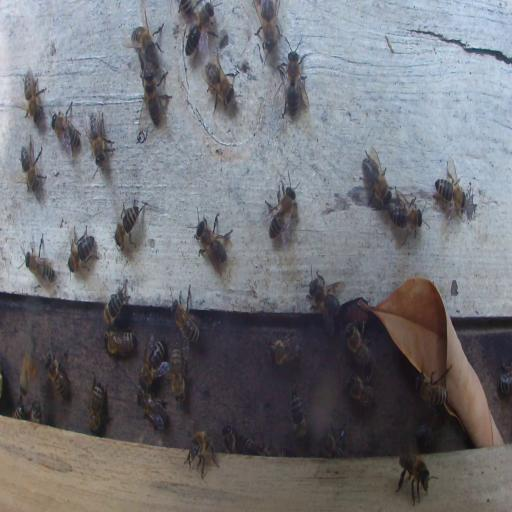nonpollenbee: (275, 34, 310, 121), (263, 171, 301, 249), (189, 209, 234, 273), (304, 265, 342, 338), (388, 185, 426, 244), (130, 8, 166, 64), (170, 284, 202, 347), (433, 158, 467, 217), (202, 55, 236, 114), (396, 451, 433, 505), (361, 146, 392, 208), (184, 426, 220, 478), (142, 68, 172, 127), (185, 4, 217, 56), (24, 235, 56, 286), (51, 106, 82, 158), (86, 109, 114, 166), (19, 136, 45, 196), (113, 201, 144, 251), (67, 224, 97, 274), (22, 67, 46, 125), (344, 320, 372, 369), (42, 352, 70, 400), (102, 282, 130, 329), (265, 330, 301, 366), (140, 338, 164, 388), (138, 391, 167, 431), (346, 371, 376, 408), (256, 0, 280, 43), (288, 390, 308, 441), (88, 377, 105, 434), (104, 328, 136, 358), (418, 379, 448, 411), (319, 427, 346, 458), (170, 345, 184, 402), (415, 423, 438, 450), (242, 437, 269, 455), (221, 425, 237, 454), (499, 360, 511, 398), (30, 399, 42, 423), (13, 401, 26, 419)
pollenbee: (19, 338, 38, 398)
